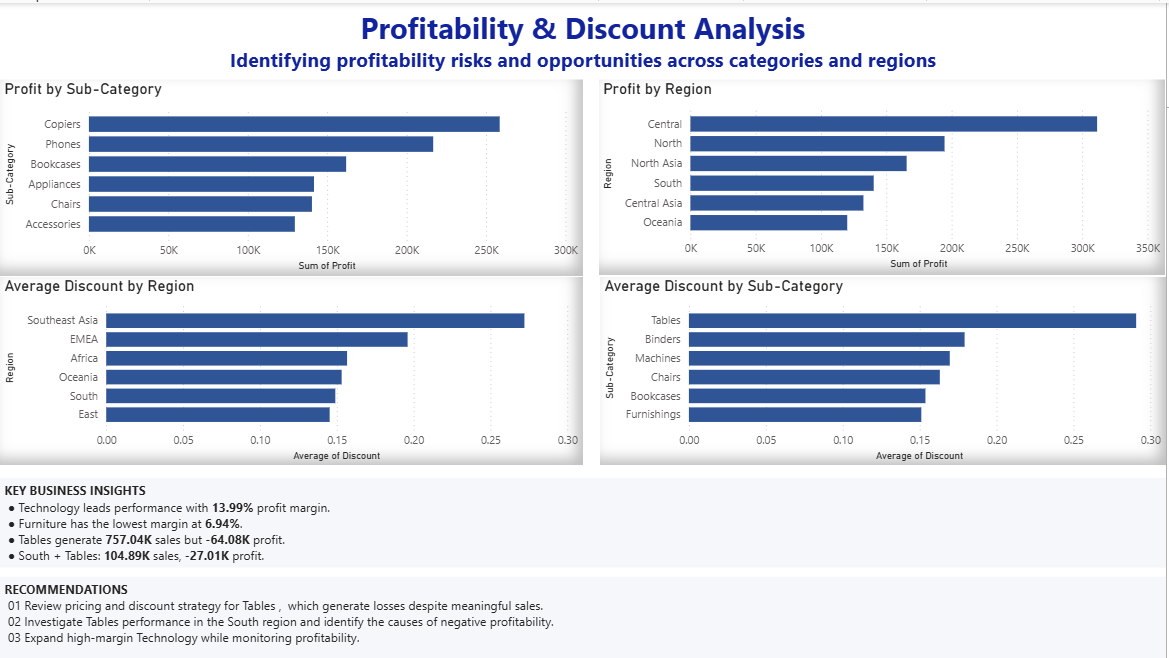

Layout of this report page (visuals, bound fields, positions):
{"tool":"powerbi","page":{"name":"Page 2","canvas":[1280,720],"ordinal":1},"visuals":[{"type":"clusteredBarChart","title":"Average Discount by Sub-Category","fields":{"Category":["ECOMM_DATA_CLEANED.Sub-Category"],"Y":["Avg(ECOMM_DATA_CLEANED.Discount)"]},"box":[658.6,300,621.4,207.1],"z":0},{"type":"clusteredBarChart","title":" Profit by Sub-Category","fields":{"Category":["ECOMM_DATA_CLEANED.Sub-Category"],"Y":["Sum(ECOMM_DATA_CLEANED.Profit)"]},"box":[0,84.3,640,215.7],"z":1000},{"type":"clusteredBarChart","title":" Profit by Region","fields":{"Category":["ECOMM_DATA_CLEANED.Region"],"Y":["Sum(ECOMM_DATA_CLEANED.Profit)"]},"box":[657.3,83.7,621.6,214.1],"z":2000},{"type":"clusteredBarChart","title":"Average Discount by Region","fields":{"Category":["ECOMM_DATA_CLEANED.Region"],"Y":["Avg(ECOMM_DATA_CLEANED.Discount)"]},"box":[0,300,640,207.1],"z":3000},{"type":"textbox","box":[0,521.4,1280,98.6],"z":4000},{"type":"textbox","box":[0,629.8,1280.3,90.6],"z":5000},{"type":"textbox","box":[0,0,1280,84.3],"z":6000}]}

Visuals, with their boxes in screenshot pixels (x1, y1, x2, y2), scaled from the page's 1280x720 canvas onto the 1169x658 screenshot:
"Average Discount by Sub-Category" clusteredBarChart: 601/274/1168/463
" Profit by Sub-Category" clusteredBarChart: 0/77/584/274
" Profit by Region" clusteredBarChart: 600/76/1168/272
"Average Discount by Region" clusteredBarChart: 0/274/584/463
textbox: 0/477/1168/567
textbox: 0/576/1168/657
textbox: 0/0/1168/77
